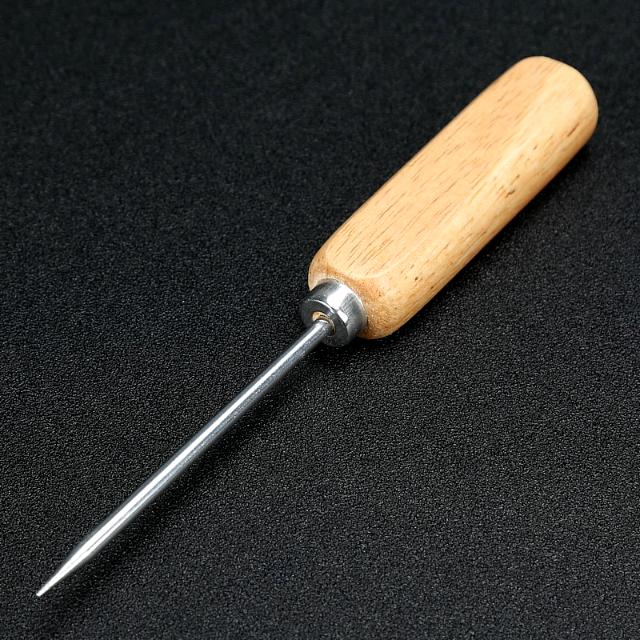ice pick: (35, 56, 598, 598)
